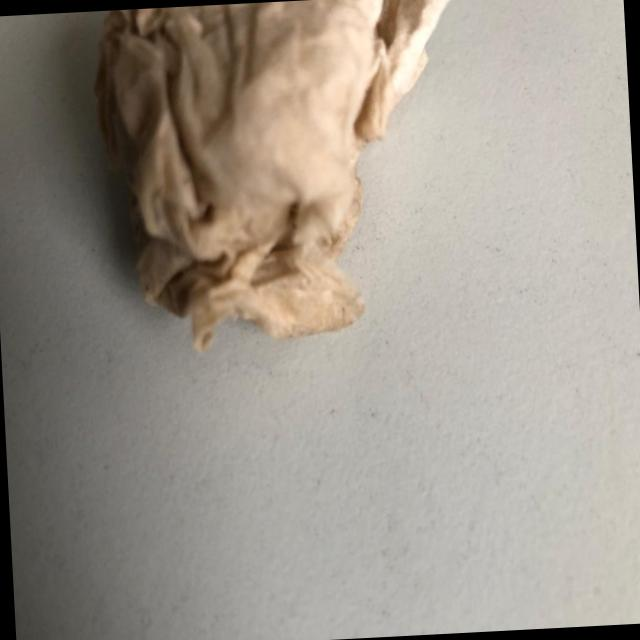organic waste: (86, 0, 470, 361)
